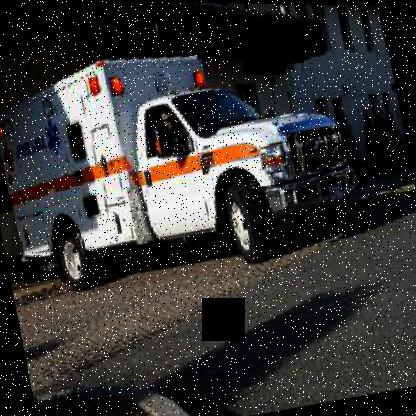emergency: (0, 23, 372, 303)
